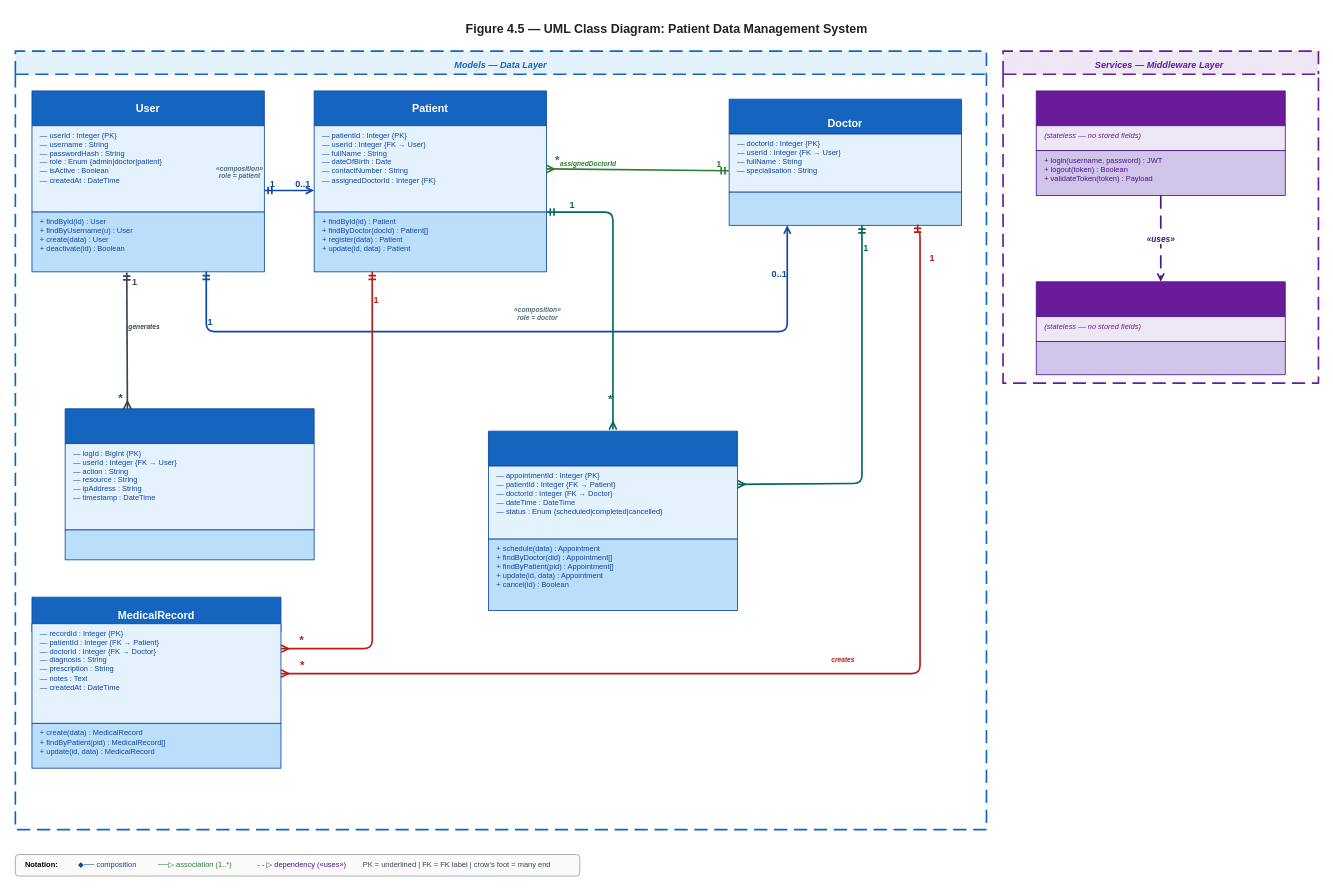
This 1333x891 diagram has some shape labels left out. The shapes that lost their labels are listed below. From the top down, each one's centre as x and y in pixels, then its label:
At (x=1160, y=108): "«controller» AuthController".
At (x=845, y=208): "+ findById(id) : Doctor + getPatients() : Patient[]".
At (x=1160, y=299): "«middleware» RBACMiddleware".
At (x=1160, y=358): "+ checkRole(token, requiredRole) : Boolean + authorise(req, res, next) : void".
At (x=189, y=426): "AuditLog".
At (x=612, y=448): "Appointment".
At (x=189, y=544): "+ log(userId, action, resource, ip) : AuditLog".
